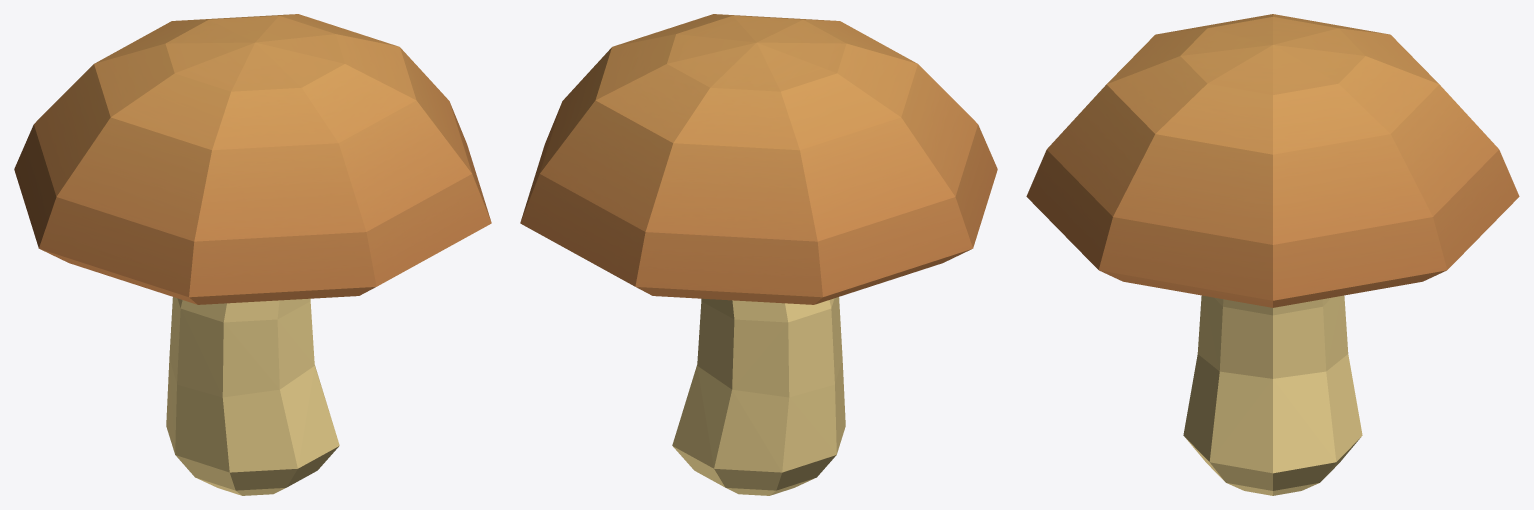
Rendered from Pilz_groß.fbx.
The picture shows the model from 3 angles, left to right: view 1: azimuth 30°, elevation 25°; view 2: azimuth 150°, elevation 25°; view 3: azimuth 270°, elevation 25°; orthographic projection.
Parts seen in each view (by area): view 1: Pilz_Groß; view 2: Pilz_Groß; view 3: Pilz_Groß.
Boxes of the visible parts, <box> form: Pilz_Groß: <box>14,14,491,495</box>; Pilz_Groß: <box>520,14,997,495</box>; Pilz_Groß: <box>1026,14,1519,495</box>.
Size of the model in its own units: 47.41 by 46.14 by 47.41.
